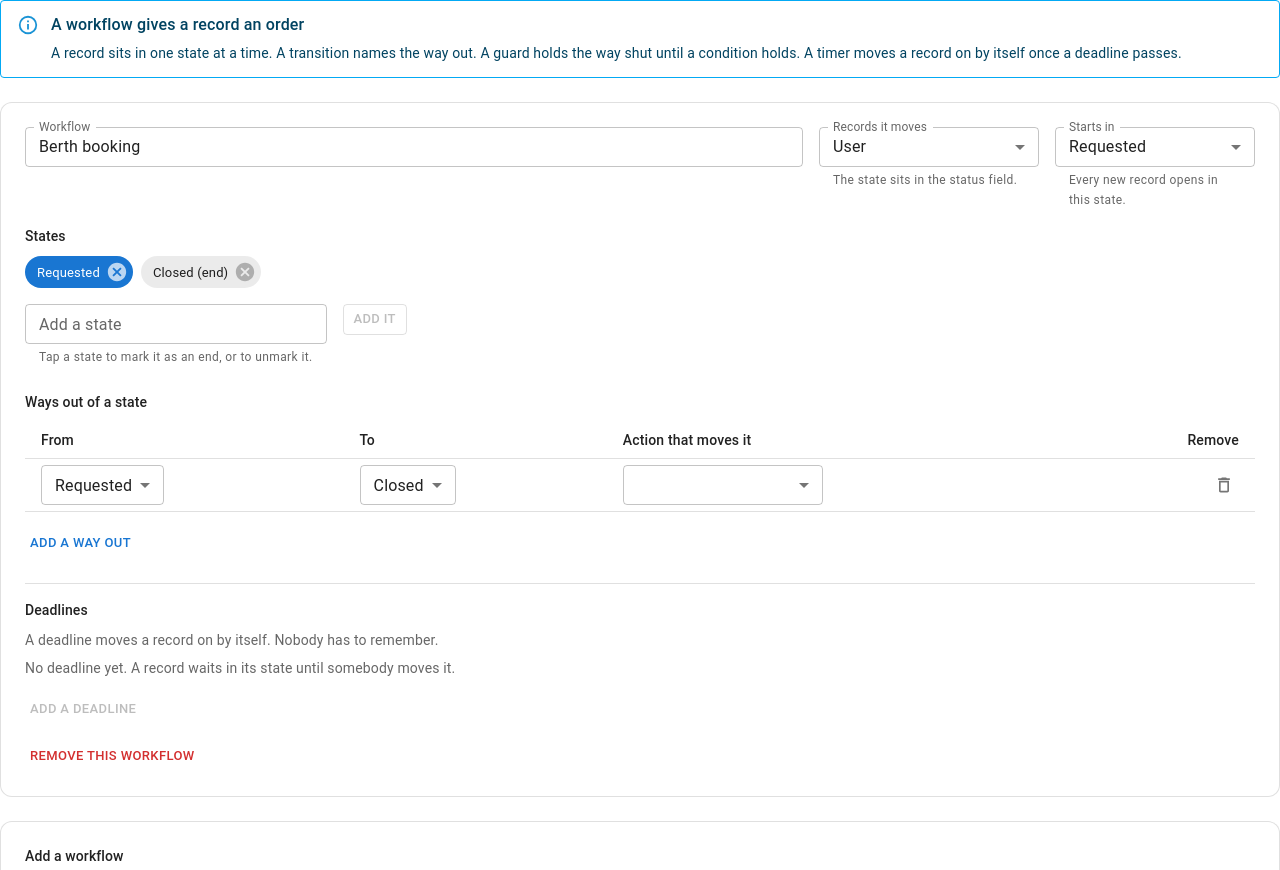
Scenario: the workflow editor over a held workflow › unmarks an end and reports a workflow that never ends
Click the button "Closed (end)" at [201, 272], box [141, 256, 261, 288]
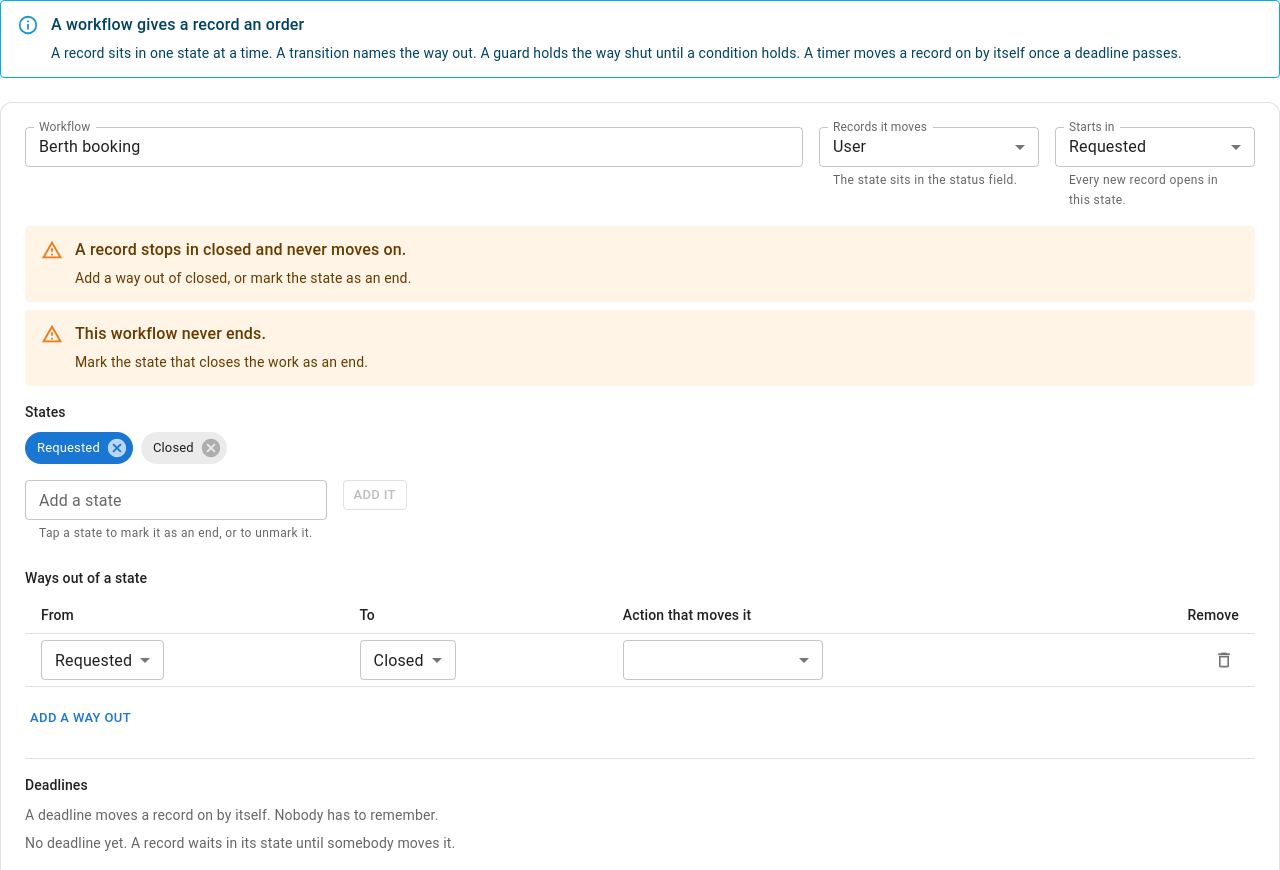
expect the text "This workflow never ends." is shown: met, box [75, 324, 266, 343]
expect the text "A record stops in closed and never moves on." is shown: met, box [75, 238, 412, 262]
